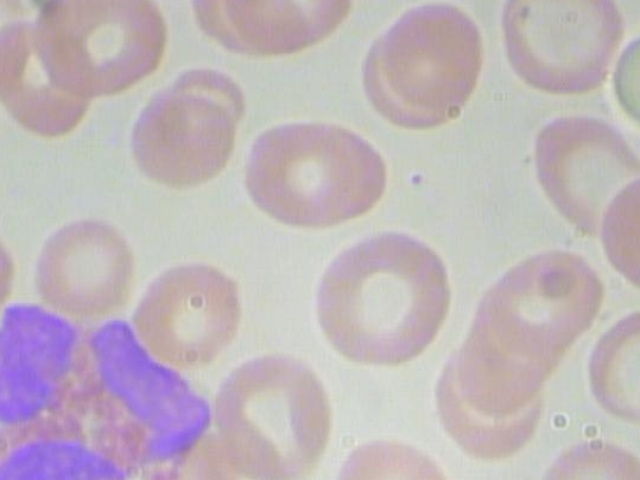RBC: (302, 227, 461, 381), (209, 349, 340, 479), (525, 107, 640, 247), (241, 121, 373, 229), (129, 256, 257, 366), (29, 0, 166, 100), (489, 243, 610, 355), (496, 0, 626, 100), (374, 0, 485, 112), (121, 90, 237, 188), (34, 211, 136, 317), (221, 0, 363, 55)
WBC: (0, 293, 225, 480)
